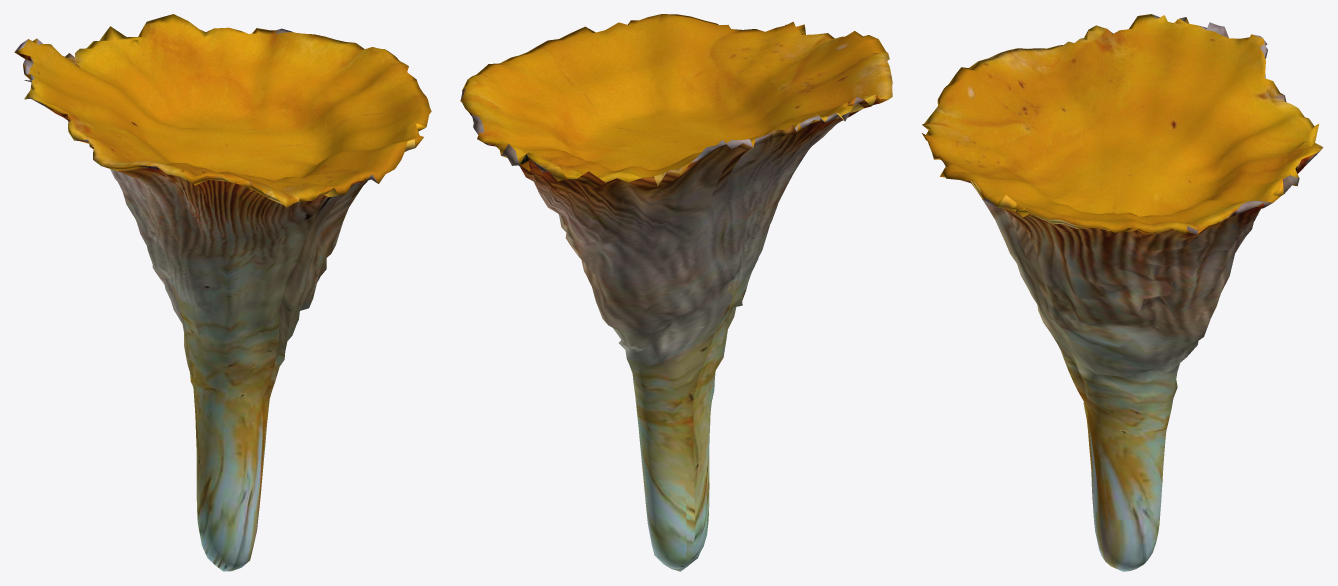
File: pfifferling.glb
3 views of the same model, side by side, from view 1: azimuth 30°, elevation 25°; view 2: azimuth 150°, elevation 25°; view 3: azimuth 270°, elevation 25° (orthographic). The views are drawn at different scales.
Visible parts, largest first — view 1: pfifferling; view 2: pfifferling; view 3: pfifferling.
Boxes of the visible parts, x1,y1,x2,y2 form: pfifferling: (14,14,431,571); pfifferling: (460,14,892,571); pfifferling: (922,14,1323,571).
Size of the model in its own units: 0.3731 by 0.4929 by 0.3753.
Materials: 2 (2 with a texture image).
